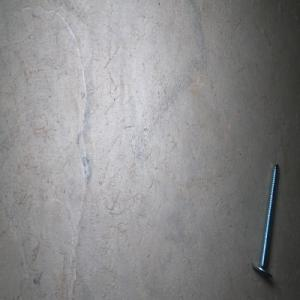Bolt: (251, 163, 279, 278)
